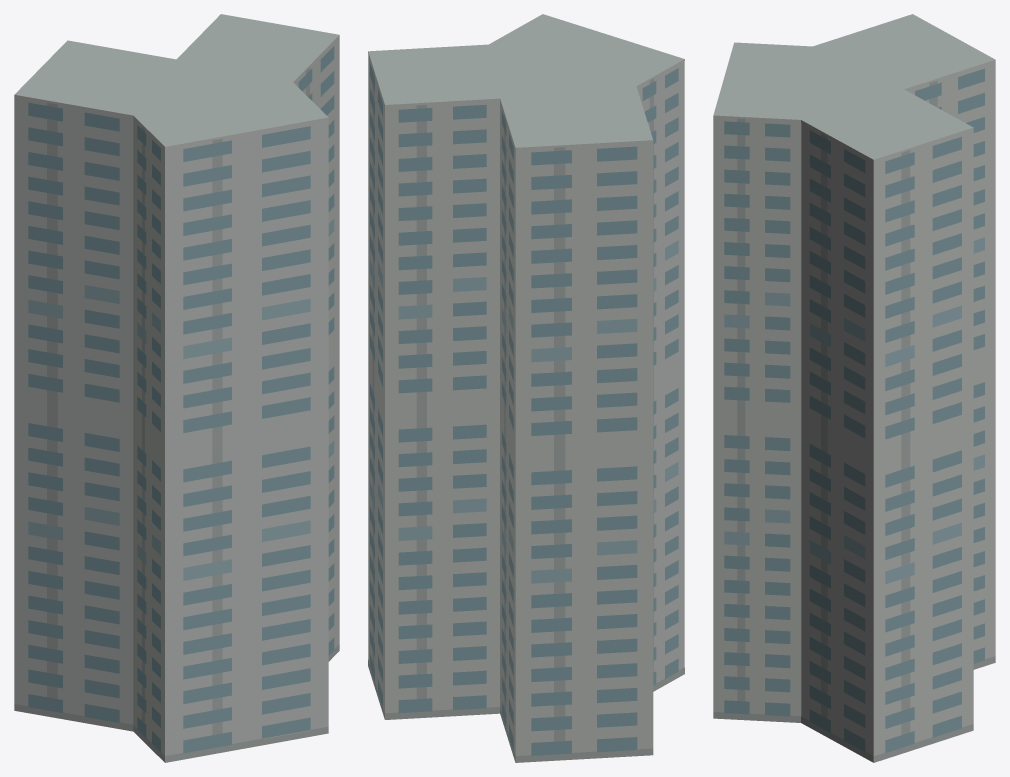
The model's file is residential-3b5757d3-252e-43d7-94f5-8cf417b33470.glb.
The picture shows the model from 3 angles, left to right: view 1: azimuth 30°, elevation 25°; view 2: azimuth 150°, elevation 25°; view 3: azimuth 270°, elevation 25°; orthographic projection. The views are drawn at different scales.
Visible parts, largest first — view 1: residential-3b5757d3-252e-43d7-94f5-8cf417b33470.tmp; view 2: residential-3b5757d3-252e-43d7-94f5-8cf417b33470.tmp; view 3: residential-3b5757d3-252e-43d7-94f5-8cf417b33470.tmp.
Boxes of the visible parts, x1=… form: residential-3b5757d3-252e-43d7-94f5-8cf417b33470.tmp: x1=14, y1=14, x2=339, y2=762; residential-3b5757d3-252e-43d7-94f5-8cf417b33470.tmp: x1=368, y1=14, x2=684, y2=762; residential-3b5757d3-252e-43d7-94f5-8cf417b33470.tmp: x1=713, y1=14, x2=995, y2=762.
Bounding box in the file's own units: 36.84 × 71 × 30.13.
